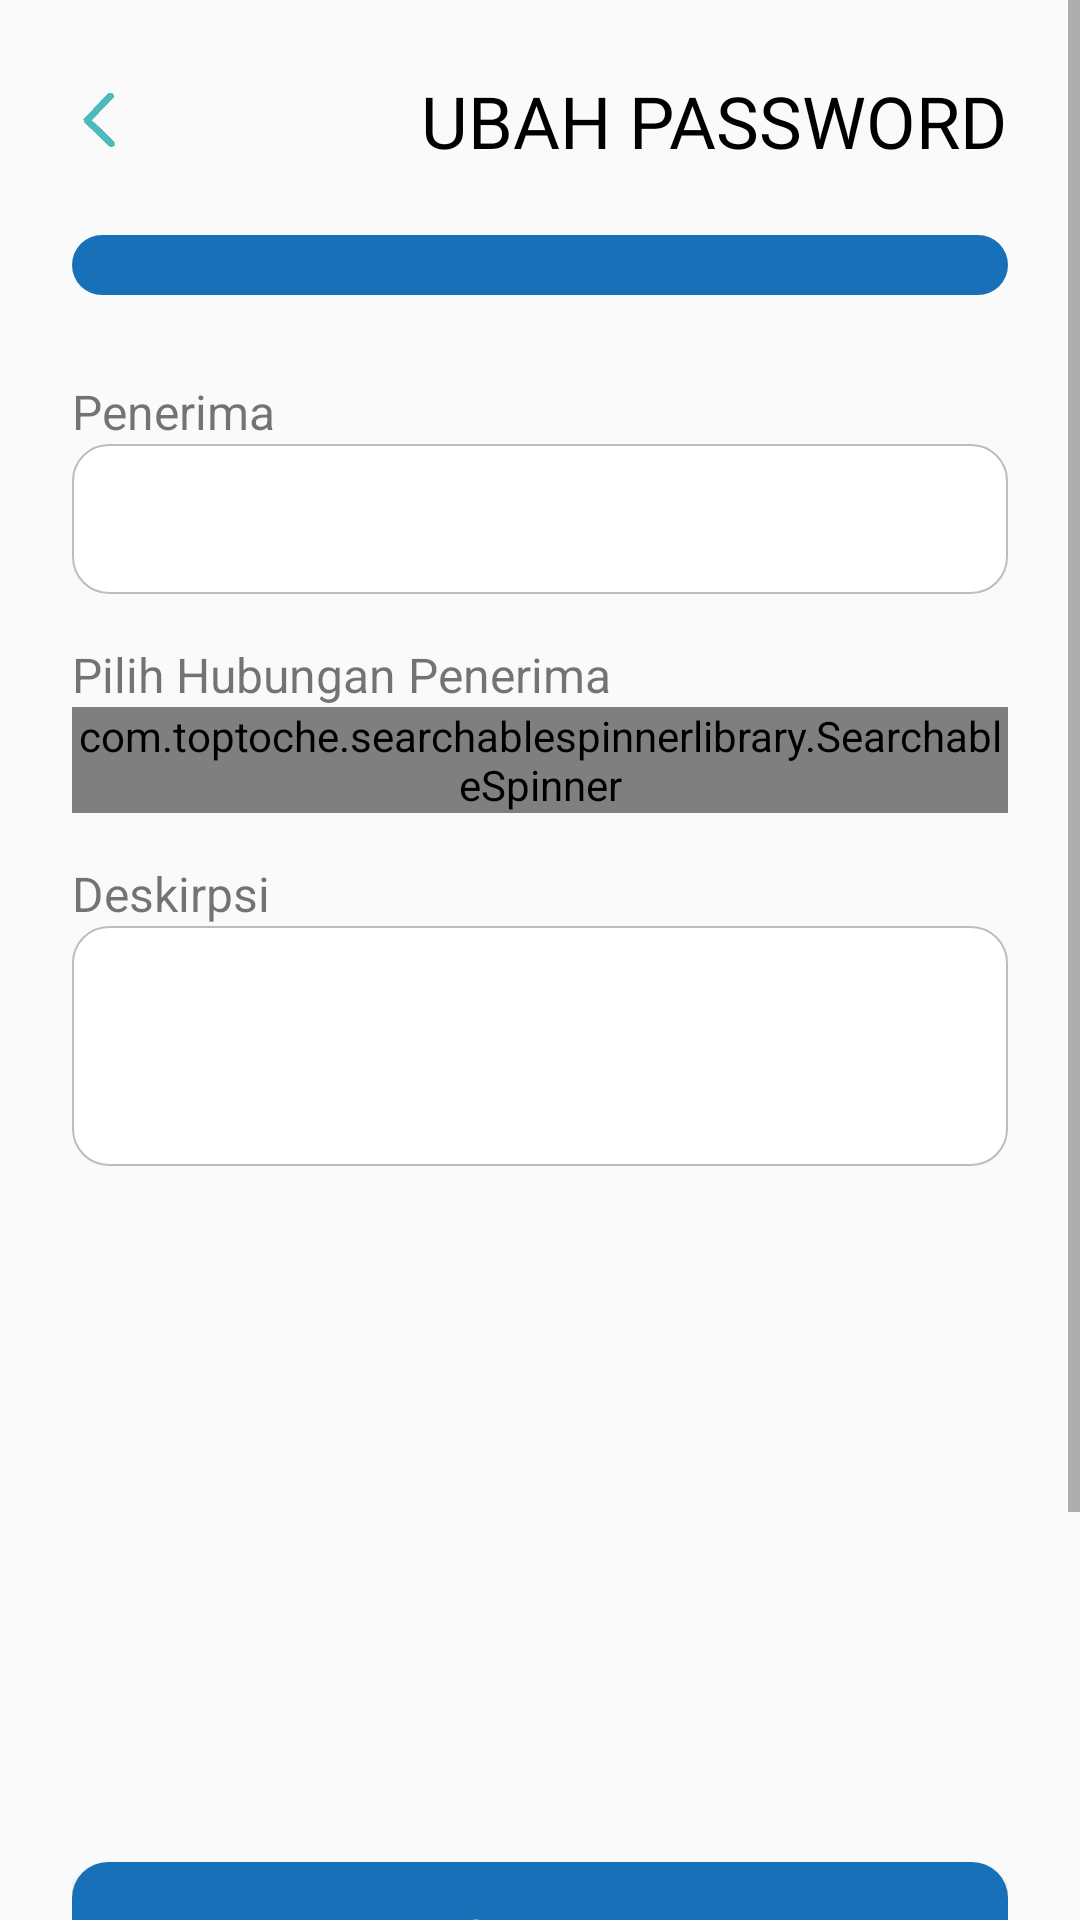

Icons on this 1080w x 1920h Android screen, each with its box as [x1, y1, x2, y2]:
back: [83, 93, 115, 147]
